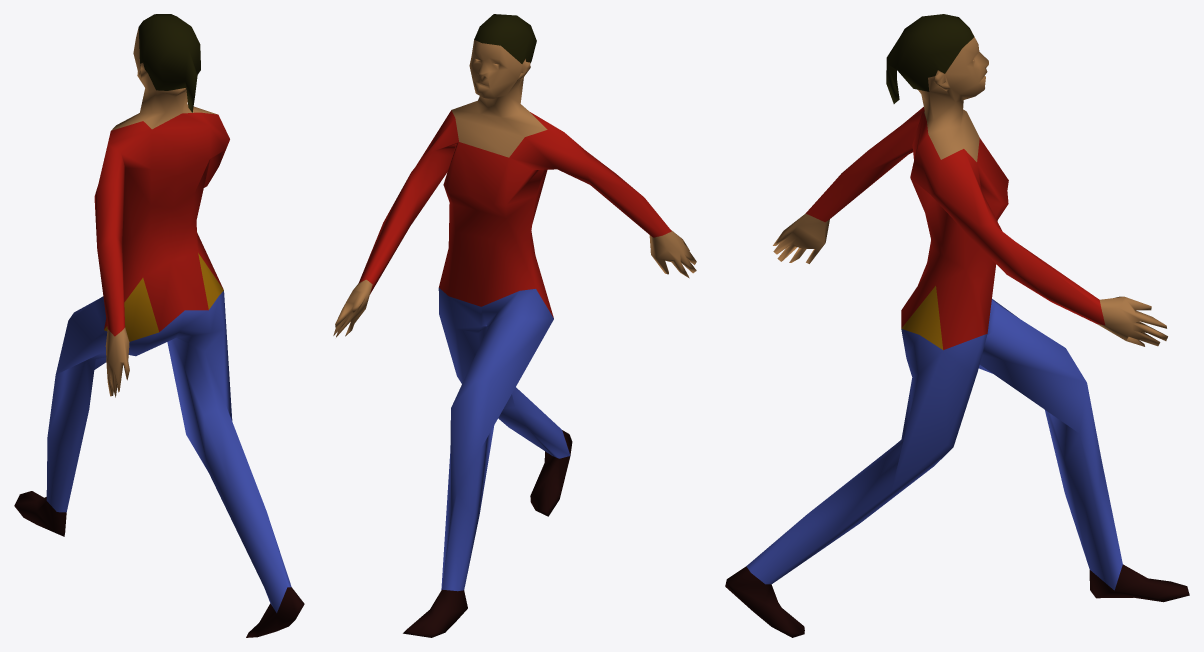
The model's file is personlowpoly_000002.obj.
3 renders of one model, left to right at view 1: azimuth 30°, elevation 25°; view 2: azimuth 150°, elevation 25°; view 3: azimuth 270°, elevation 25°, orthographic. The views are drawn at different scales.
Parts seen in each view (by area): view 1: Cube; view 2: Cube; view 3: Cube.
Part boxes in pixels (x1,y1,x2,y2): Cube: (14, 14, 304, 637); Cube: (333, 14, 696, 637); Cube: (725, 14, 1189, 637).
Size of the model in its own units: 33.56 by 87.75 by 61.06.
